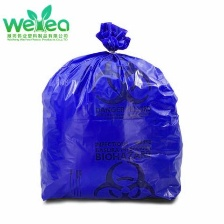plastic_bag: (26, 16, 198, 210)
